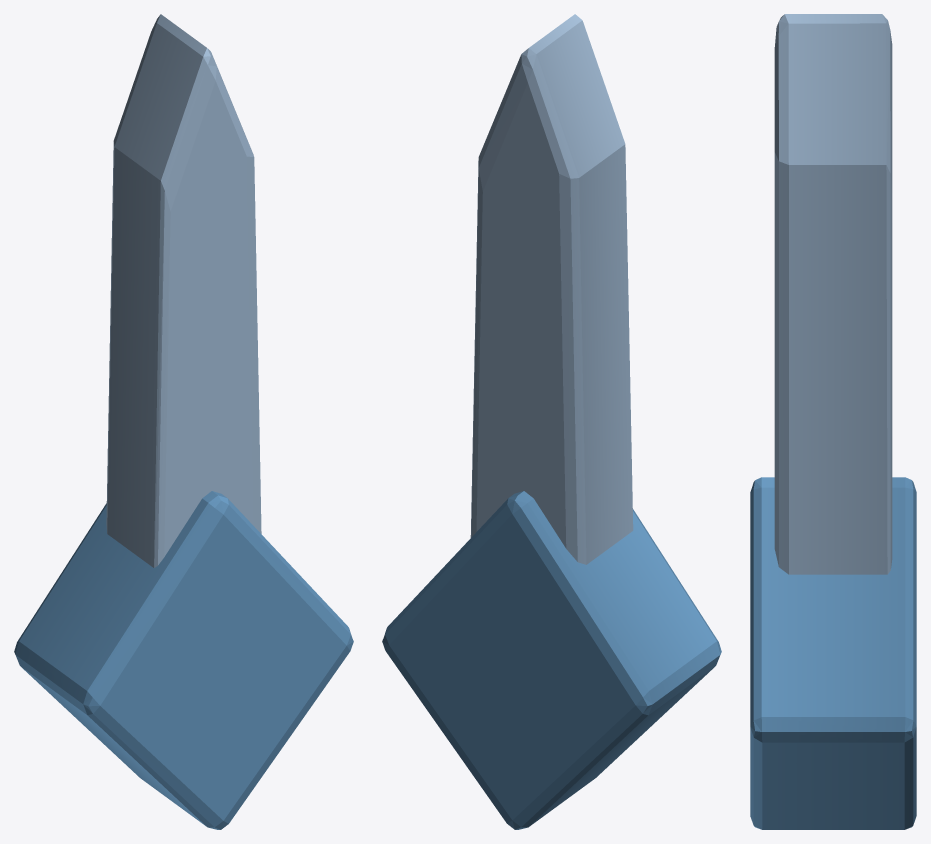
The model's file is Eula_LightfallSwordState_Standard_LightfallHilt.fbx.
3 renders of one model, left to right at view 1: azimuth 30°, elevation 25°; view 2: azimuth 150°, elevation 25°; view 3: azimuth 270°, elevation 25°, orthographic. The views are drawn at different scales.
Visible parts, largest first — view 1: PART_NarrowLightGrip, PART_GuardDiamond; view 2: PART_NarrowLightGrip, PART_GuardDiamond; view 3: PART_NarrowLightGrip, PART_GuardDiamond.
Boxes of the visible parts, box(x1,y1,x2,y2) form: PART_NarrowLightGrip: box(106, 14, 261, 567); PART_GuardDiamond: box(14, 491, 353, 829); PART_NarrowLightGrip: box(470, 14, 633, 564); PART_GuardDiamond: box(382, 491, 721, 829); PART_NarrowLightGrip: box(774, 14, 892, 574); PART_GuardDiamond: box(750, 477, 916, 829).
Bounding box in the file's own units: 30.68 × 84.27 × 15.6.
